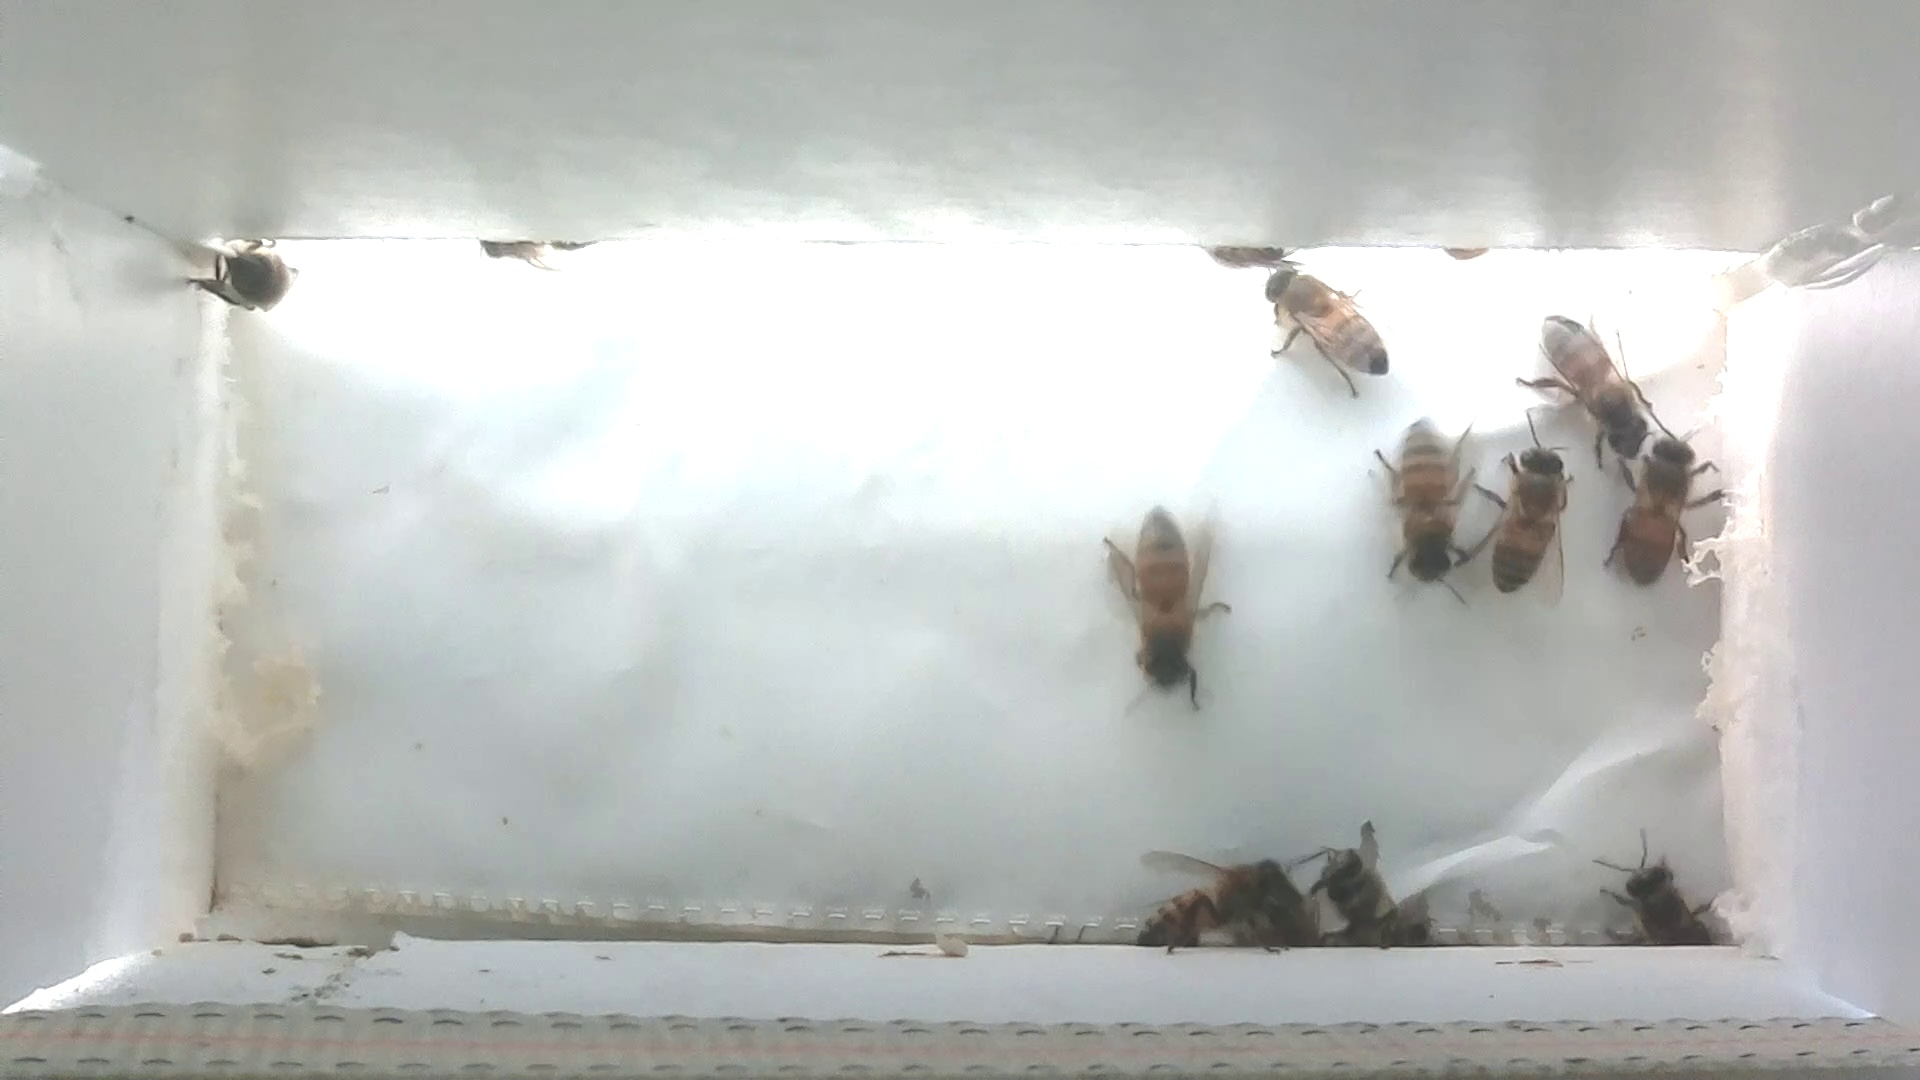bee: (1084, 495, 1245, 720), (1506, 289, 1664, 469), (1105, 829, 1313, 960), (1367, 396, 1495, 605), (1600, 409, 1729, 595), (1474, 419, 1598, 611), (1245, 258, 1400, 407), (1590, 825, 1720, 961), (1313, 840, 1414, 953), (190, 229, 305, 324)
